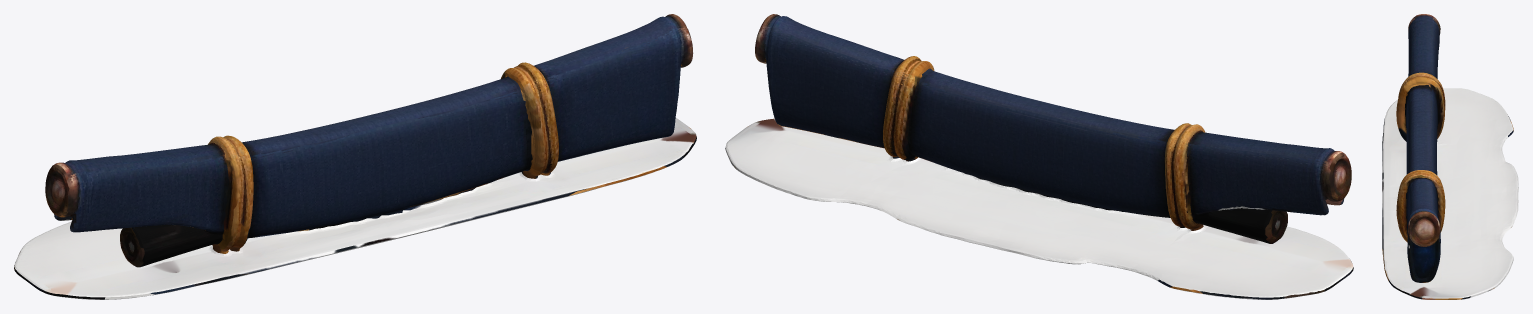
File: hoshi_arms_bundle.glb
The picture shows the model from 3 angles, left to right: view 1: azimuth 30°, elevation 25°; view 2: azimuth 150°, elevation 25°; view 3: azimuth 270°, elevation 25°; orthographic projection. The views are drawn at different scales.
Visible parts, largest first — view 1: temp_mesh.ply; view 2: temp_mesh.ply; view 3: temp_mesh.ply.
Boxes of the visible parts, <box> form: temp_mesh.ply: <box>14,14,696,299</box>; temp_mesh.ply: <box>725,14,1353,299</box>; temp_mesh.ply: <box>1382,14,1518,299</box>.
Bounding box in the file's own units: 1.97 × 0.3651 × 0.5409.
Materials: 1 (1 with a texture image).
